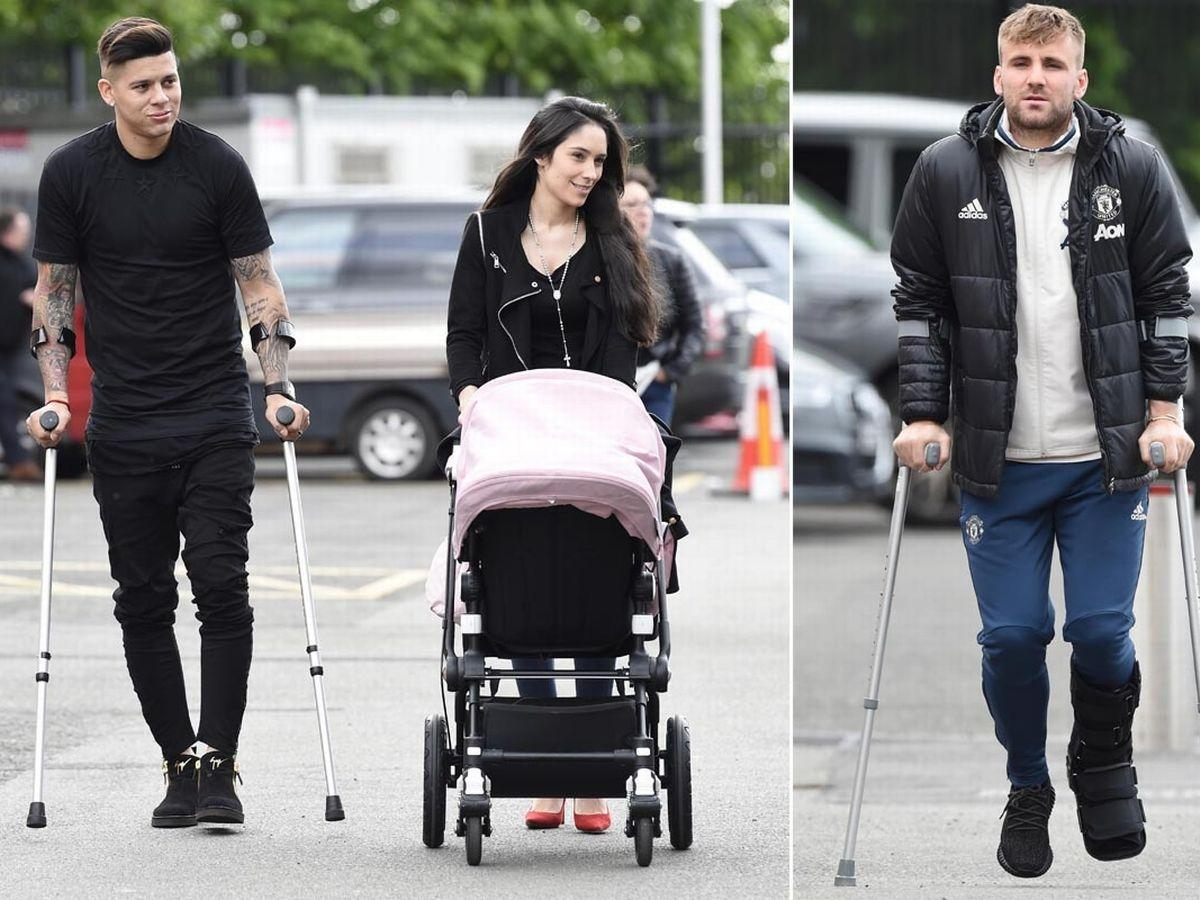crutches: (840, 4, 1200, 900), (10, 5, 361, 846)
